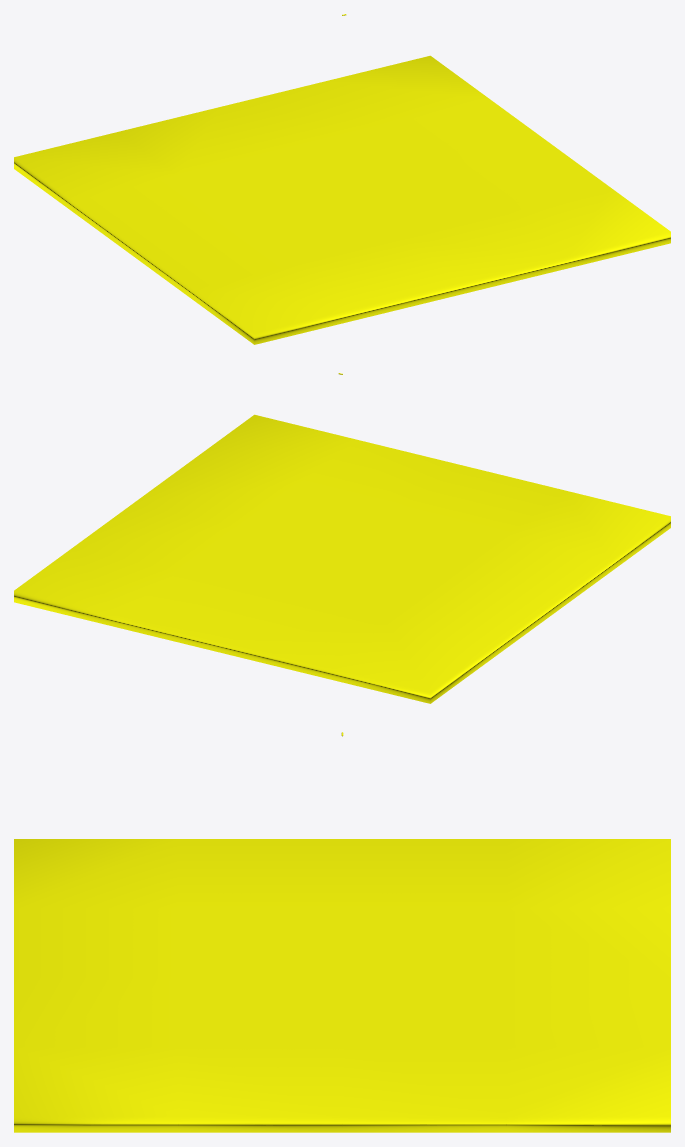
The model's file is snake_00000.obj.
3 renders of one model, top to bottom at view 1: azimuth 30°, elevation 25°; view 2: azimuth 150°, elevation 25°; view 3: azimuth 270°, elevation 25°, orthographic. The views are drawn at different scales.
Parts seen in each view (by area): view 1: 12_model; view 2: 12_model; view 3: 12_model.
Boxes of the visible parts, x1=… form: 12_model: x1=14, y1=55, x2=670, y2=344; 12_model: x1=14, y1=414, x2=670, y2=703; 12_model: x1=14, y1=839, x2=670, y2=1132.
Bounding box in the file's own units: 747 × 328 × 747.
